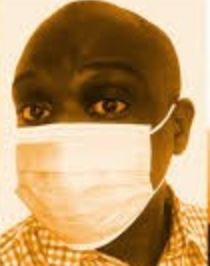with_facemask: (11, 123, 161, 246)
